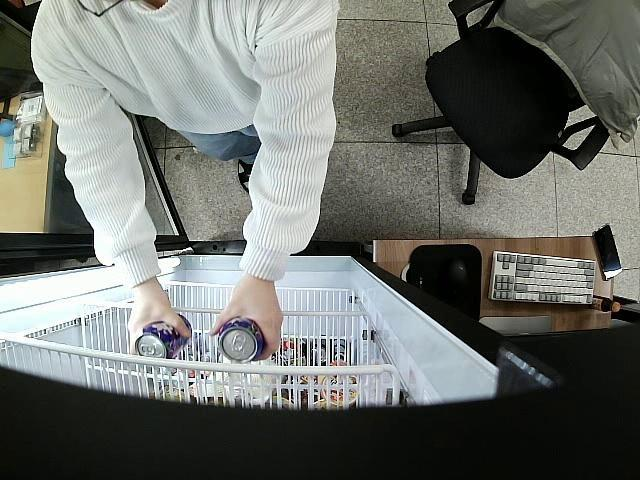14_welchsGrape: (132, 313, 192, 359), (218, 316, 268, 362)
